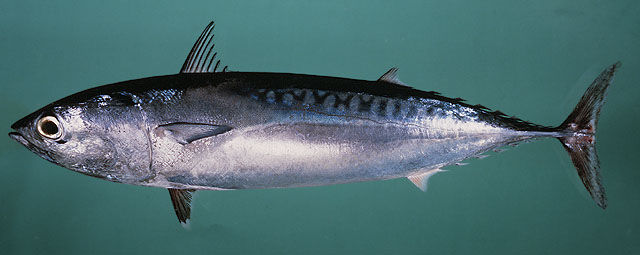fish: (10, 20, 625, 231)
